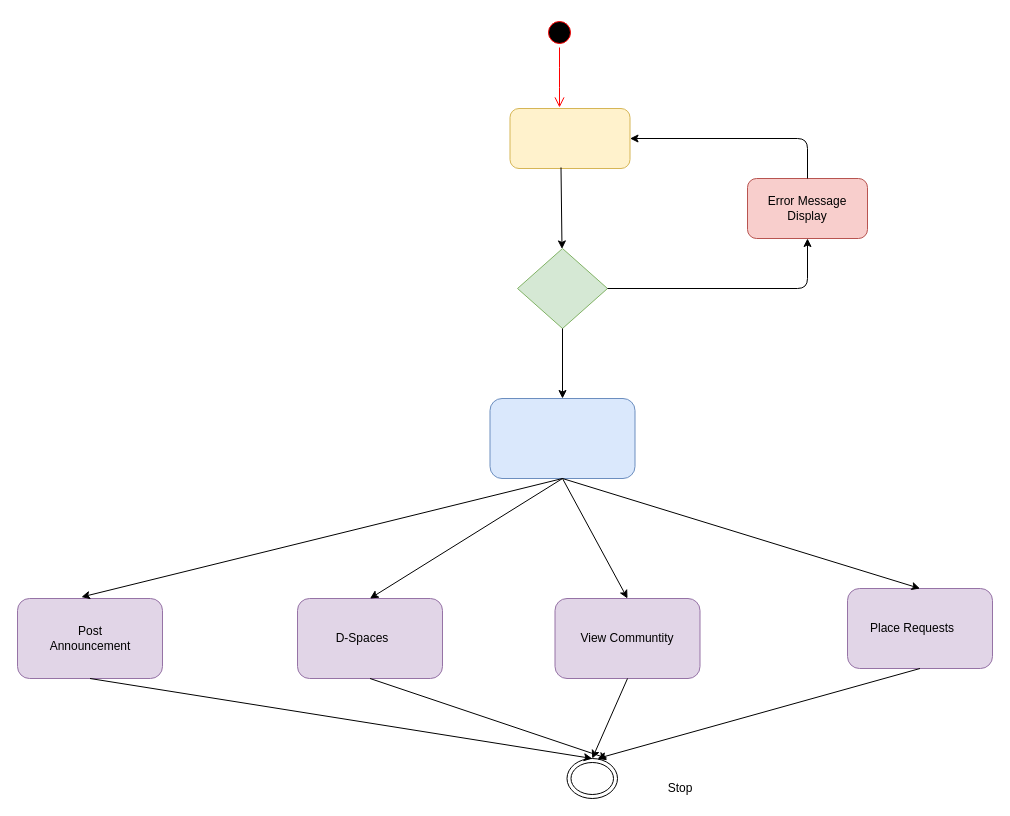
The diagram is 1010 pixels wide and 816 high, and some of its shapes have lost their labels. Each missing label, with the centre of its shape:
Alumni / Student Login: (x=569, y=138)
Announcements Page: (x=562, y=438)
Incorrect Credentials: (x=562, y=288)
